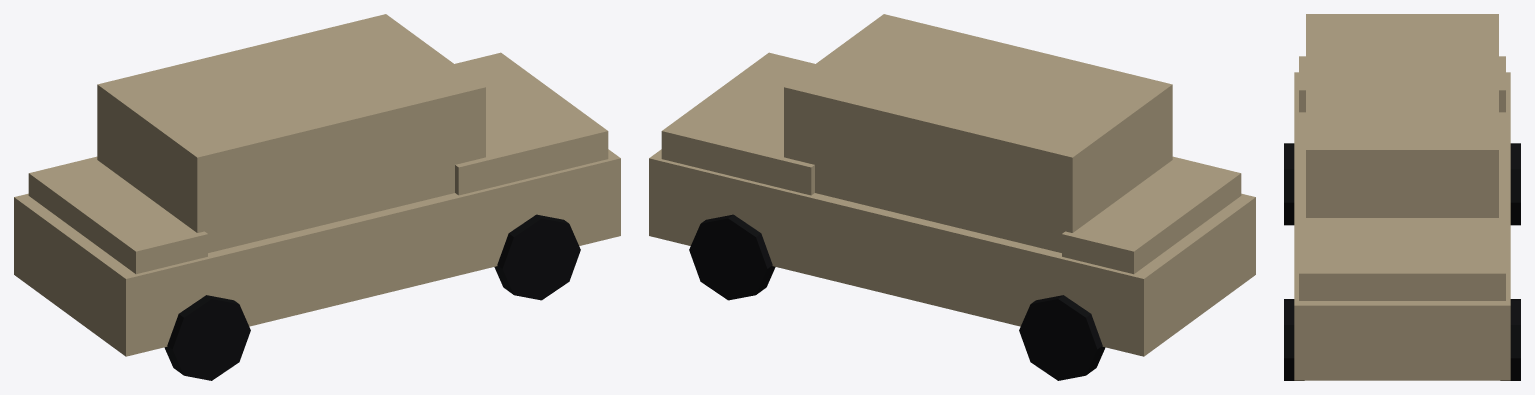
The model's file is proxy_suv_beige.dae.
3 renders of one model, left to right at view 1: azimuth 30°, elevation 25°; view 2: azimuth 150°, elevation 25°; view 3: azimuth 270°, elevation 25°, orthographic. The views are drawn at different scales.
Parts seen in each view (by area): view 1: proxy_suv; view 2: proxy_suv; view 3: proxy_suv.
Boxes of the visible parts, x1=… form: proxy_suv: x1=14, y1=14, x2=620, y2=380; proxy_suv: x1=649, y1=14, x2=1255, y2=380; proxy_suv: x1=1284, y1=14, x2=1520, y2=380.
Bounding box in the file's own units: 4.8 × 2.06 × 2.
